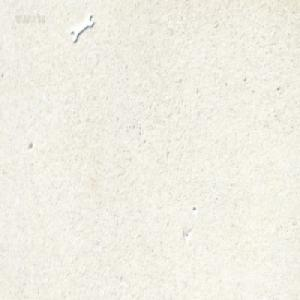Wrench: (70, 15, 93, 46)
